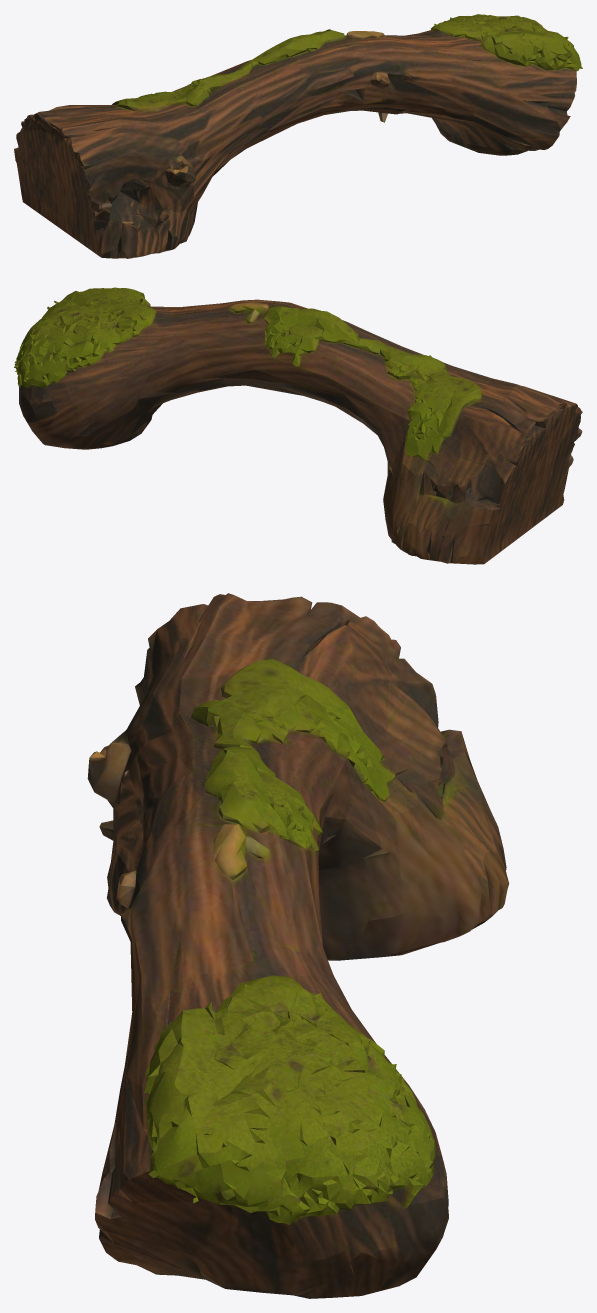
Rendered from fallen_log_arch.glb.
3 renders of one model, top to bottom at view 1: azimuth 30°, elevation 25°; view 2: azimuth 150°, elevation 25°; view 3: azimuth 270°, elevation 25°, orthographic. The views are drawn at different scales.
Size of the model in its own units: 1.9 by 0.5447 by 0.6802.
Materials: 1 (1 with a texture image).
